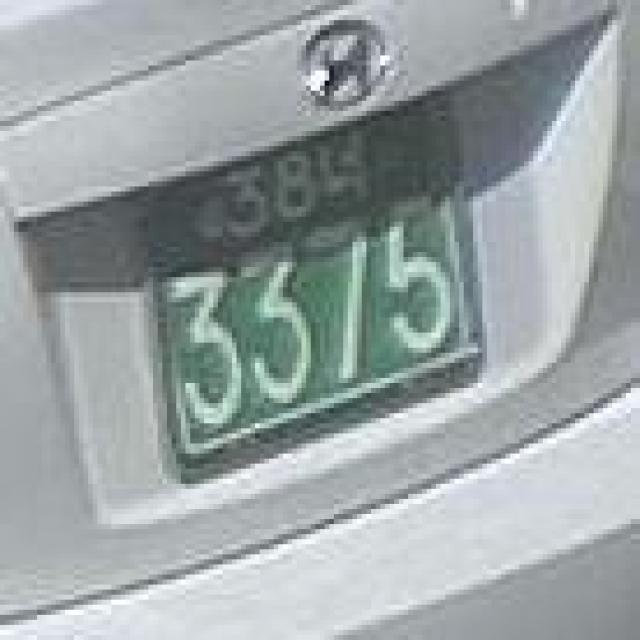illegal_plate: (127, 84, 500, 488)
